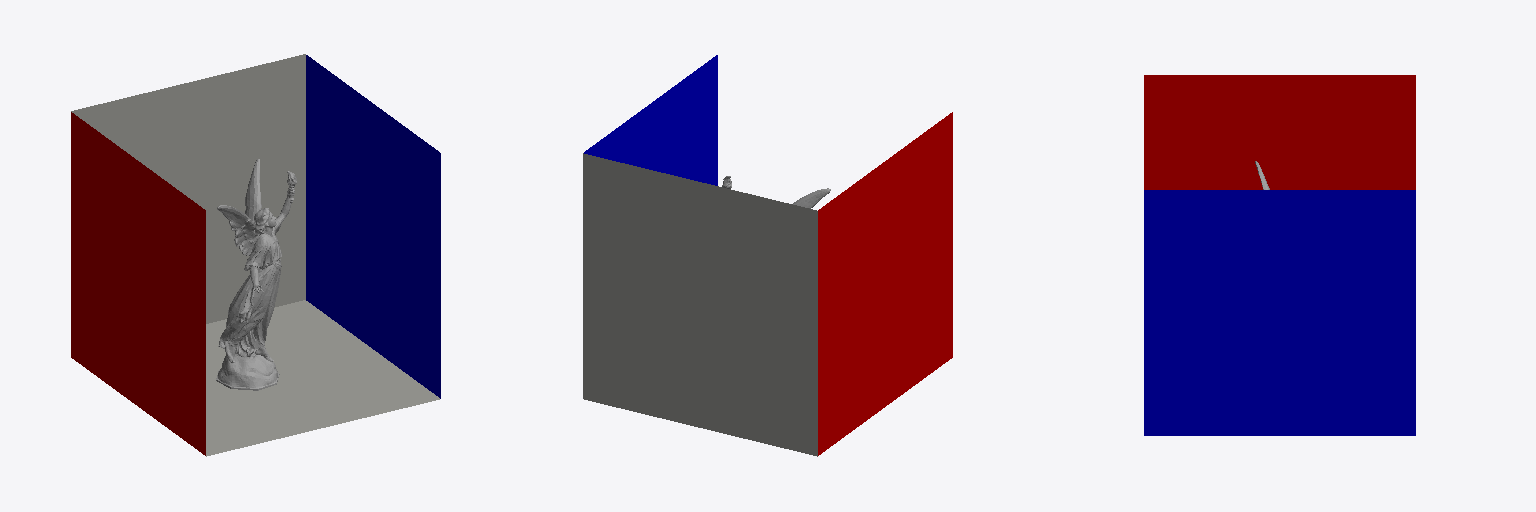
File: CornellBox-Lucy.obj
3 views of the same model, side by side, from view 1: azimuth 30°, elevation 25°; view 2: azimuth 150°, elevation 25°; view 3: azimuth 270°, elevation 25° (orthographic).
Parts seen in each view (by area): view 1: Enclosure_Cube.001, Lucy_Winged_Victory; view 2: Enclosure_Cube.001; view 3: Enclosure_Cube.001.
Boxes of the visible parts, <box> form: Enclosure_Cube.001: <box>71,54,440,456</box>; Lucy_Winged_Victory: <box>216,159,296,390</box>; Enclosure_Cube.001: <box>583,55,952,456</box>; Enclosure_Cube.001: <box>1144,75,1415,435</box>.
Bounding box in the file's own units: 2 × 2.01 × 2.